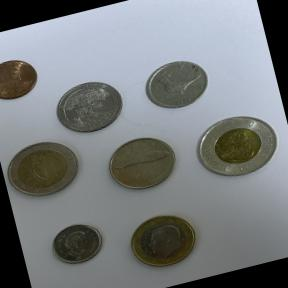1 Euro-B: (120, 204, 210, 282)
2 Euro-B: (0, 131, 91, 208)
Canada-10cent-B: (42, 214, 114, 278)
Canada-2Dollar-B: (187, 101, 288, 191)
Croatia-2Kune-B: (98, 127, 186, 202)
US-1cent-B: (0, 50, 45, 109)
US-25cent-B: (49, 71, 134, 141)
